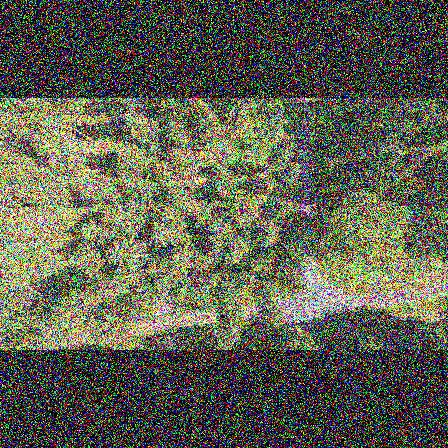Sick: (74, 177, 106, 201), (39, 145, 64, 171), (205, 219, 229, 245)
